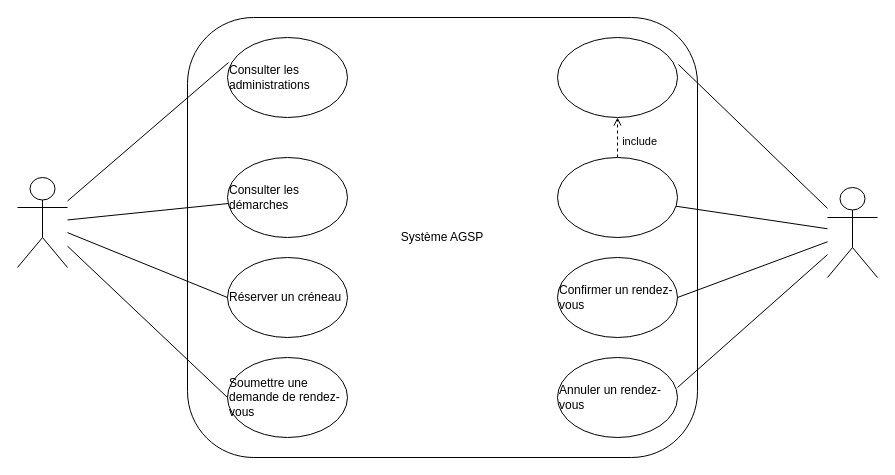
This 895x475 diagram has some shape labels left out. The centre of each missing label's shape, as x and y in pixels:
"Agent" belongs at (852,232).
"Citoyen" belongs at (42,222).
"Consulter la liste des rendez-vous" belongs at (617,197).
"S'authentifier" belongs at (617,77).
